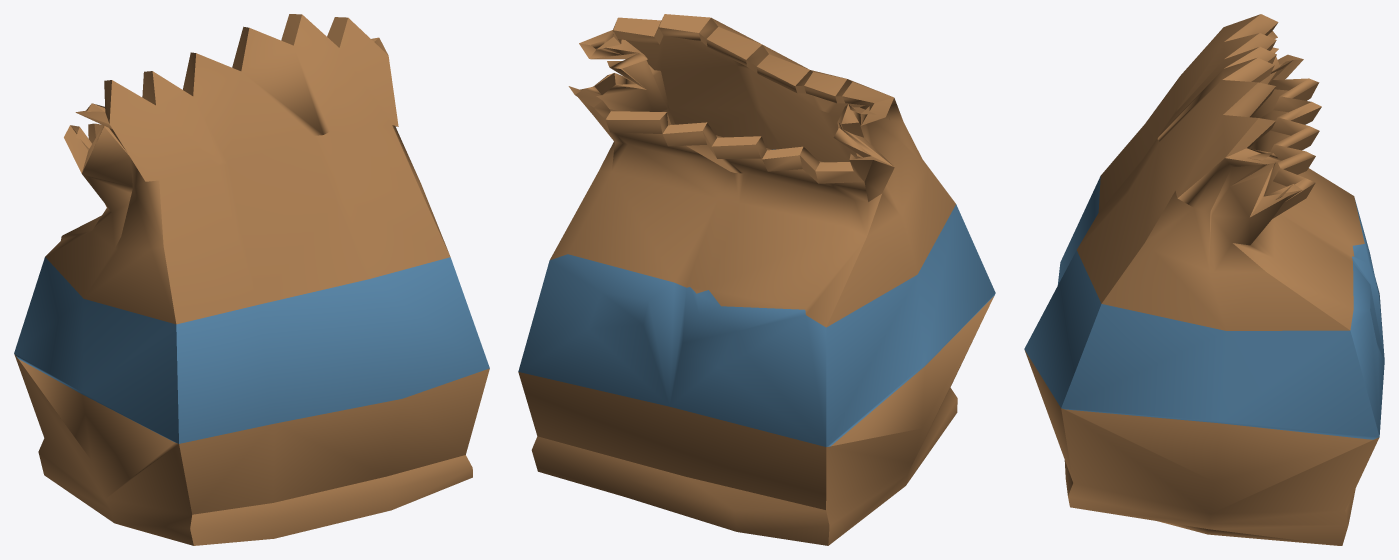
Rendered from PaperBag_02.FBX.
3 renders of one model, left to right at view 1: azimuth 30°, elevation 25°; view 2: azimuth 150°, elevation 25°; view 3: azimuth 270°, elevation 25°, orthographic. The views are drawn at different scales.
Visible parts, largest first — view 1: PaperBag_01; view 2: PaperBag_01; view 3: PaperBag_01.
Boxes of the visible parts, <box> form: PaperBag_01: <box>14,14,489,545</box>; PaperBag_01: <box>518,14,995,545</box>; PaperBag_01: <box>1024,14,1384,545</box>.
Size of the model in its own units: 32.7 by 41.46 by 31.56.
